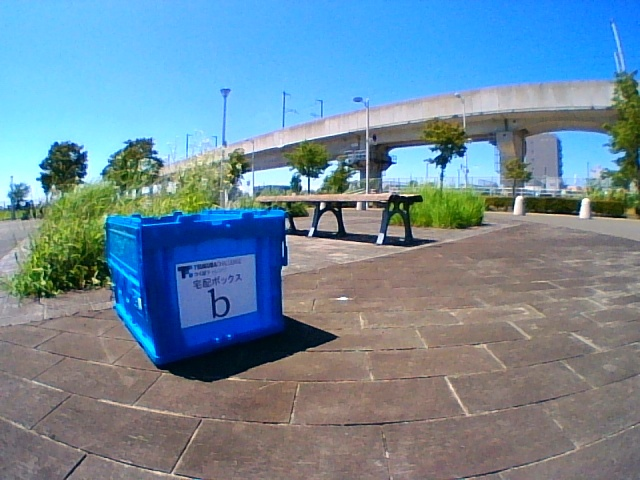blue_box: (125, 217, 277, 329)
tag_b: (196, 283, 236, 318)
